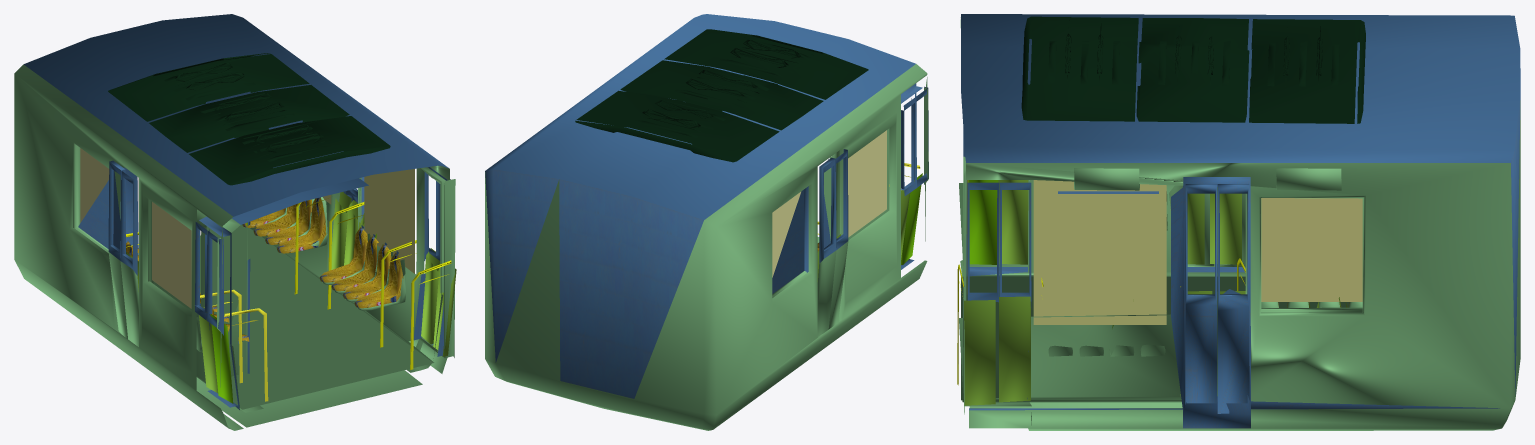
Rendered from good.gltf.
3 views of the same model, side by side, from view 1: azimuth 30°, elevation 25°; view 2: azimuth 150°, elevation 25°; view 3: azimuth 270°, elevation 25° (orthographic). The views are drawn at different scales.
Visible parts, largest first — view 1: subway_lowpoly.036; view 2: subway_lowpoly.036; view 3: subway_lowpoly.036.
Part boxes in pixels (x1,y1,x2,y2): subway_lowpoly.036: [14, 14, 456, 430]; subway_lowpoly.036: [485, 14, 928, 430]; subway_lowpoly.036: [957, 14, 1520, 430].
Bounding box in the file's own units: 351 × 330 × 531.
Materials: 31 (7 with a texture image).
